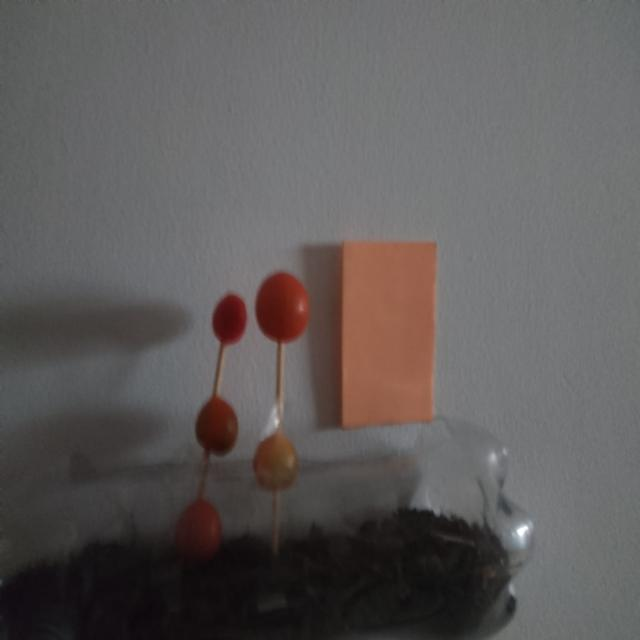card: (341, 243, 436, 427)
fruit_maturation: (253, 430, 298, 492)
fully_grown: (255, 272, 309, 345), (175, 498, 221, 563), (196, 396, 238, 455), (212, 294, 247, 344)
